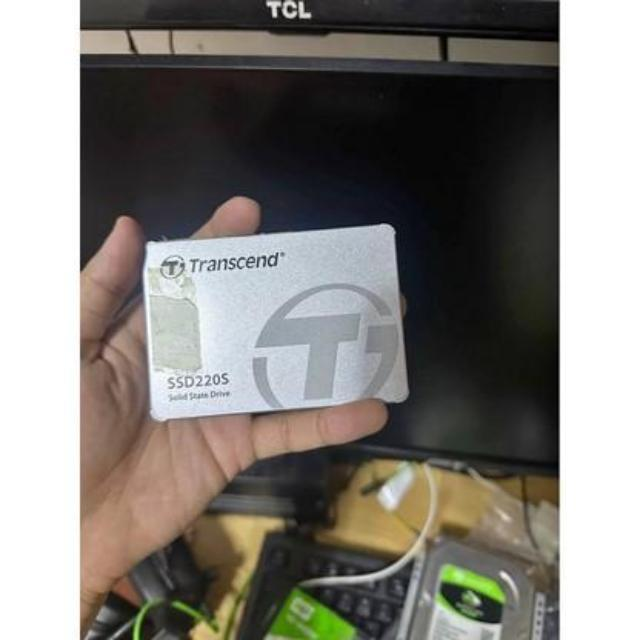DISK: (130, 208, 422, 424)
